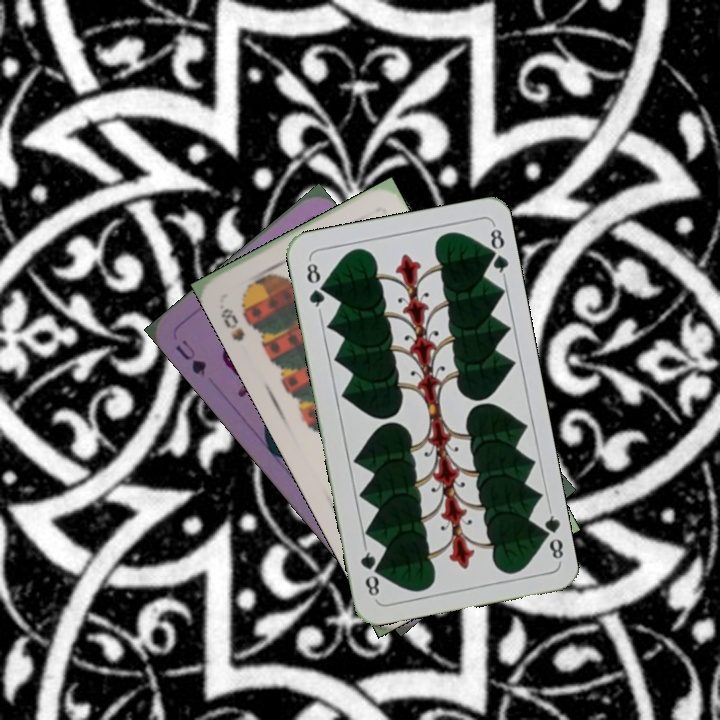G8: (534, 505, 566, 565), (302, 256, 328, 315)
GU: (171, 335, 209, 378)
S8: (216, 304, 247, 345)
